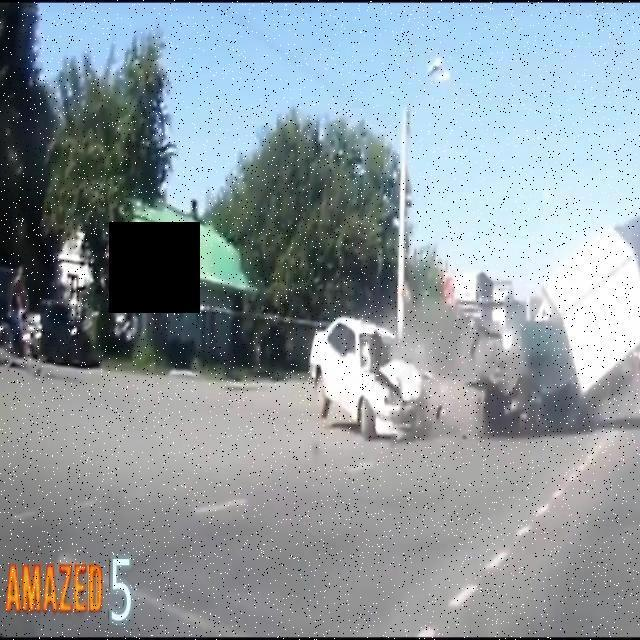multiple_accident: (306, 273, 600, 492)
